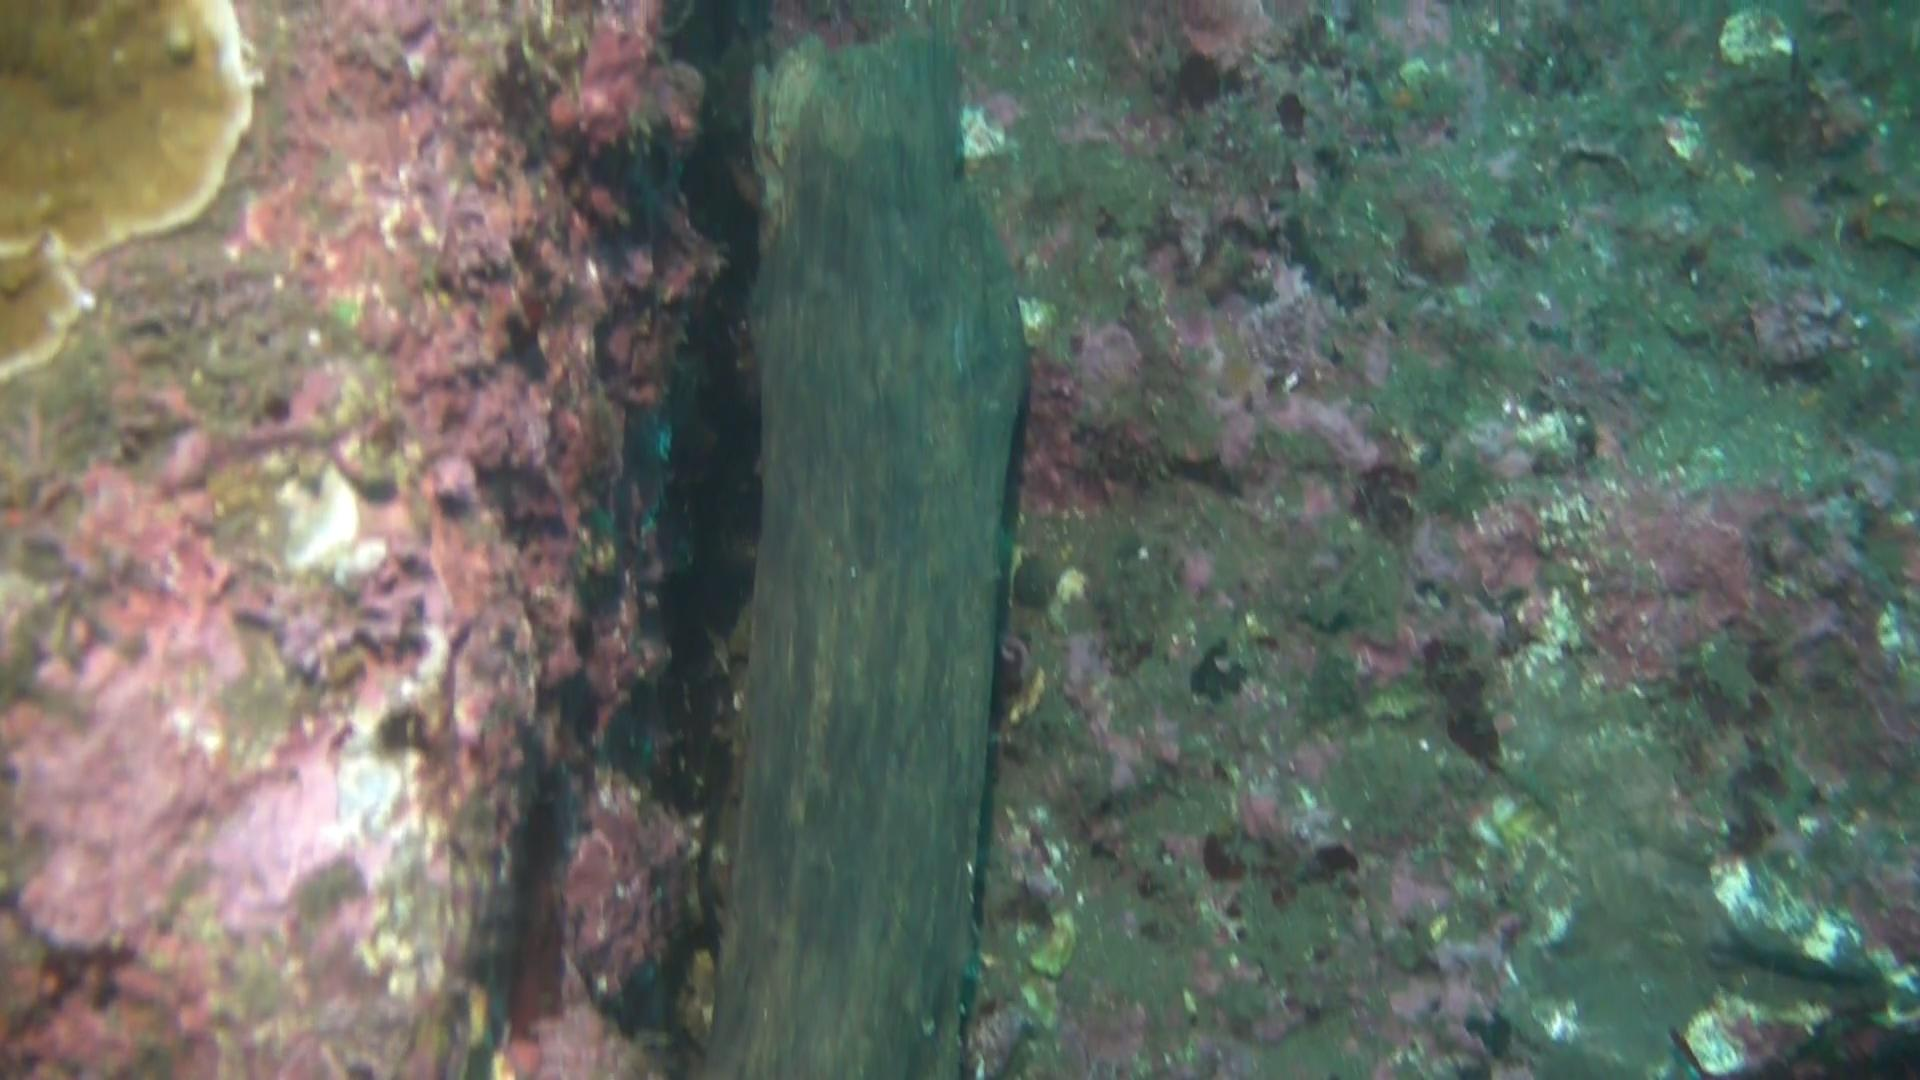wood: (704, 22, 1033, 1080)
